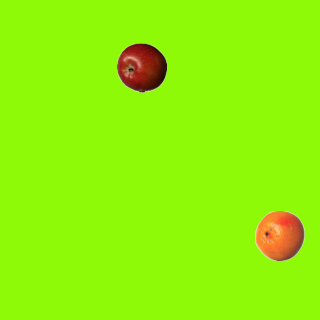Apple Braeburn: (116, 42, 166, 92)
Grapefruit Pink: (254, 210, 304, 260)
